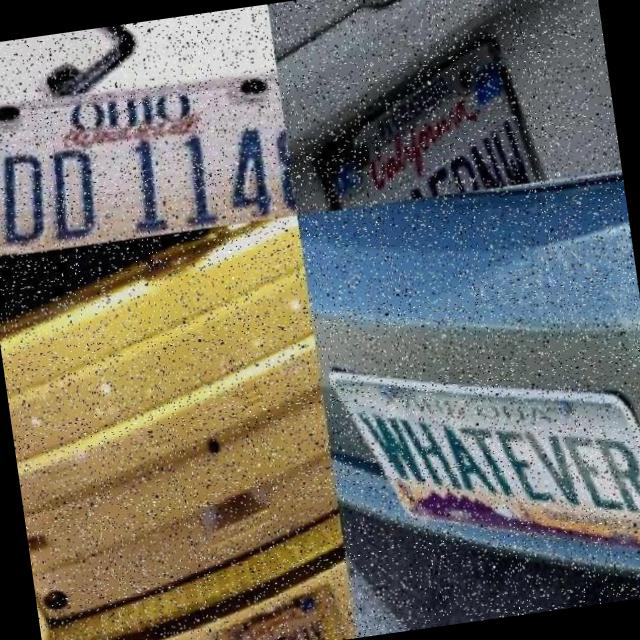LicensePlate: (0, 28, 297, 258), (327, 371, 640, 546), (316, 30, 551, 209), (226, 586, 343, 640)
